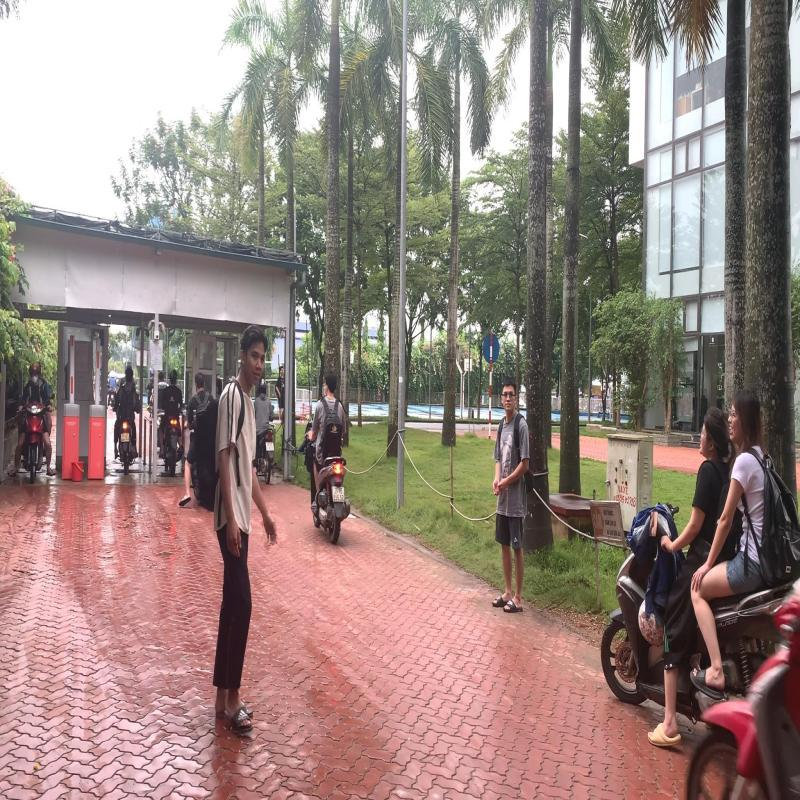nohelmet: (728, 386, 764, 446), (698, 404, 732, 464), (324, 370, 338, 398), (194, 370, 206, 390)
